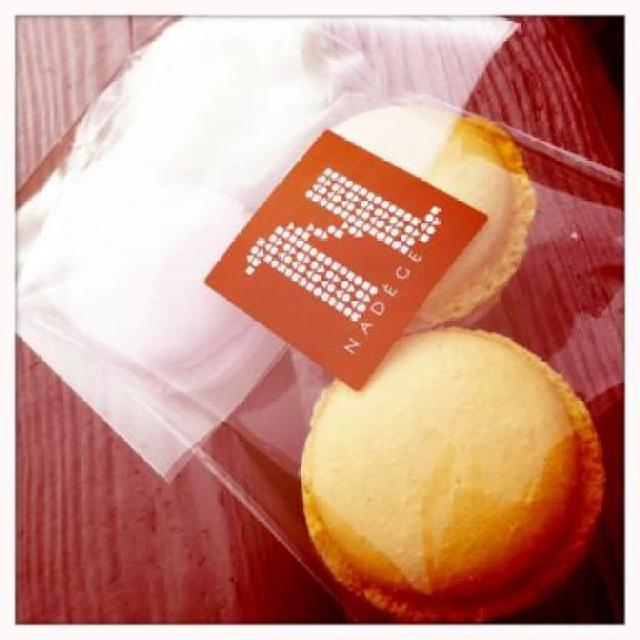Macaron: (248, 98, 632, 640)
